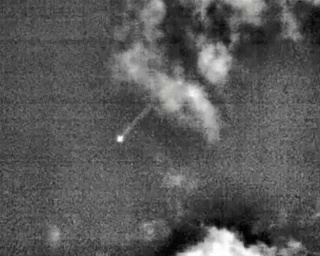AIRPLANE: (112, 74, 187, 151)
